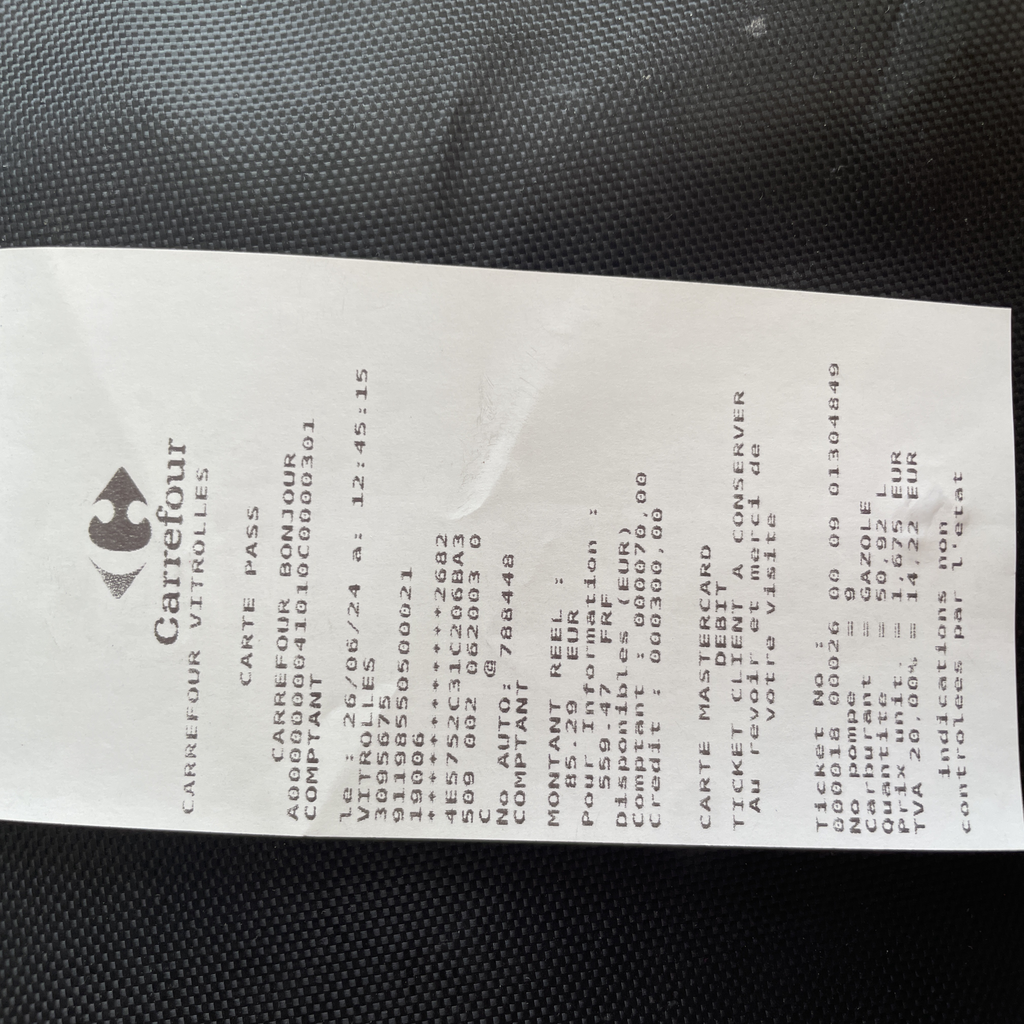recipt: (0, 240, 1024, 858)
